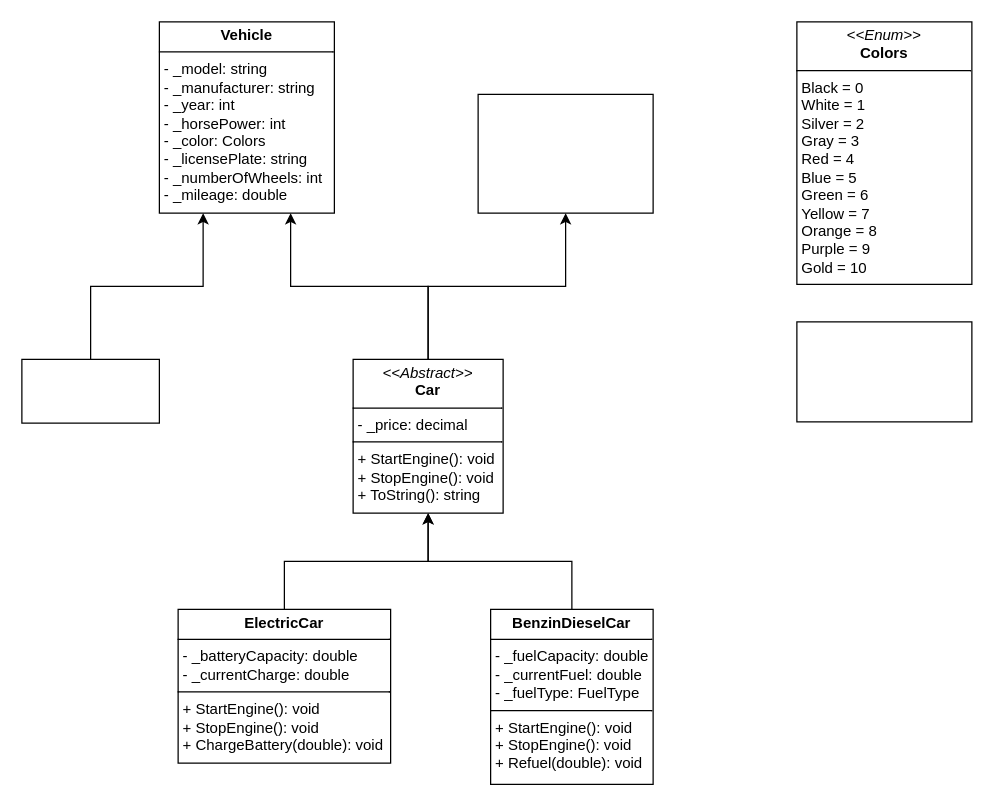
This 994x806 diagram has some shape labels left out. The shapes that lost their labels are listed below. From the top down, each one's box as (x1, y1, x2, y2) in pixels, then its label:
(477, 93, 653, 213): <<Interface>> ICar + Model: string + Manufacturer: string + Price: decimal
(21, 358, 159, 423): Motorcycle - _hasSidecar: bool
(796, 321, 972, 422): <<Enum>> FuelType Benzin = 1 Diesel = 2
